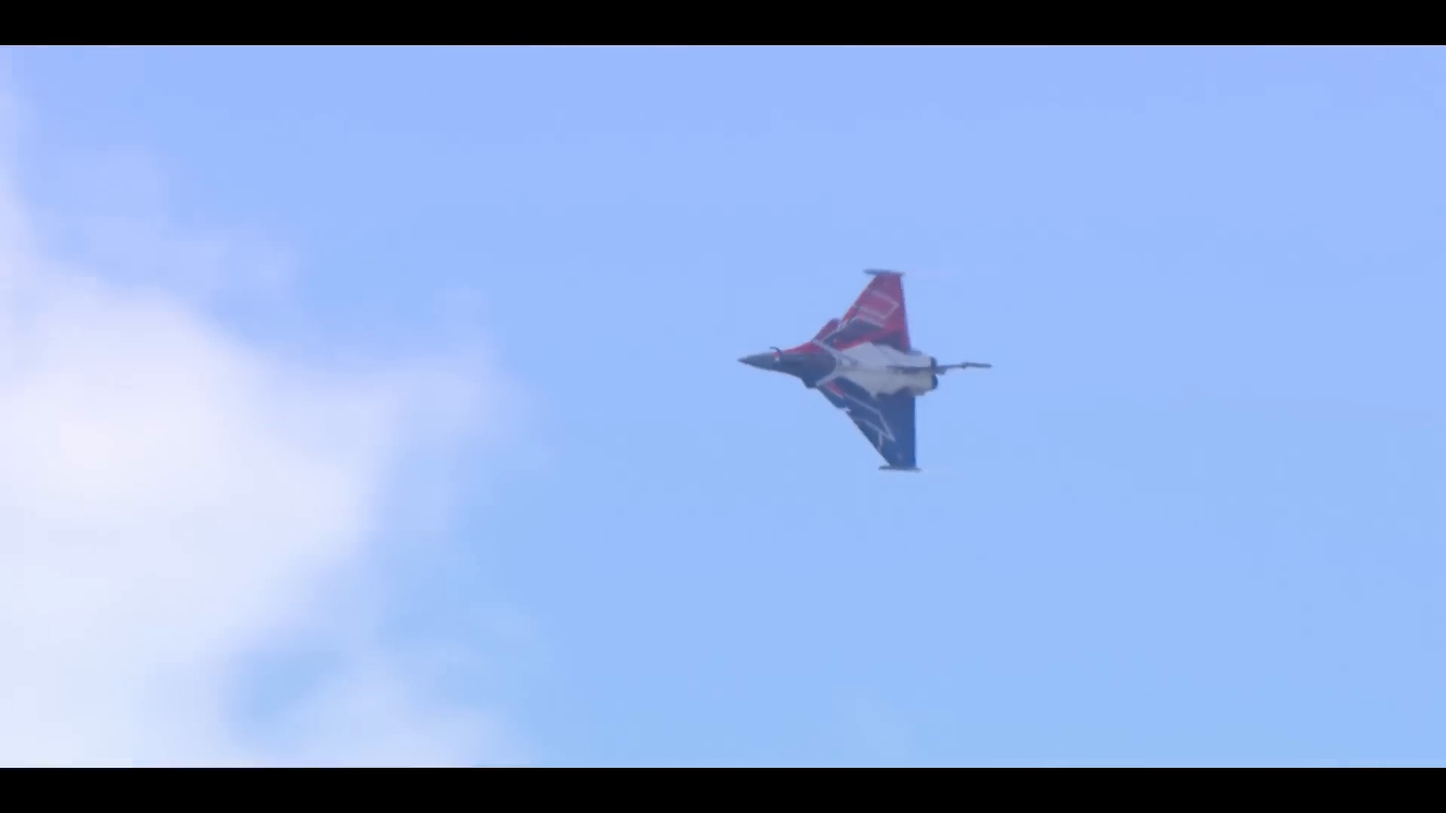Rafale: (719, 253, 1007, 478)
